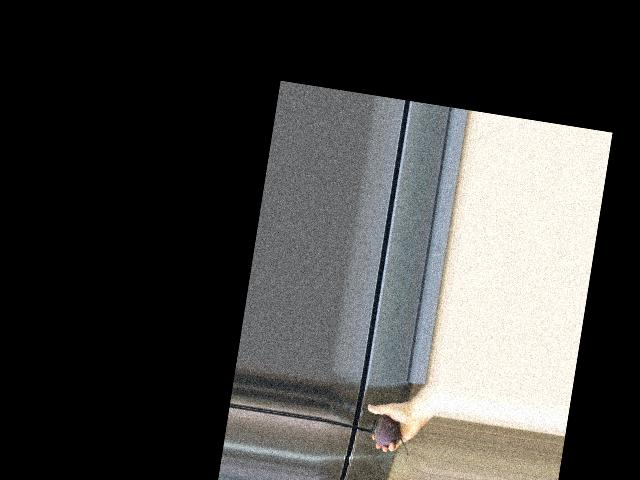beet: (366, 413, 413, 463)
